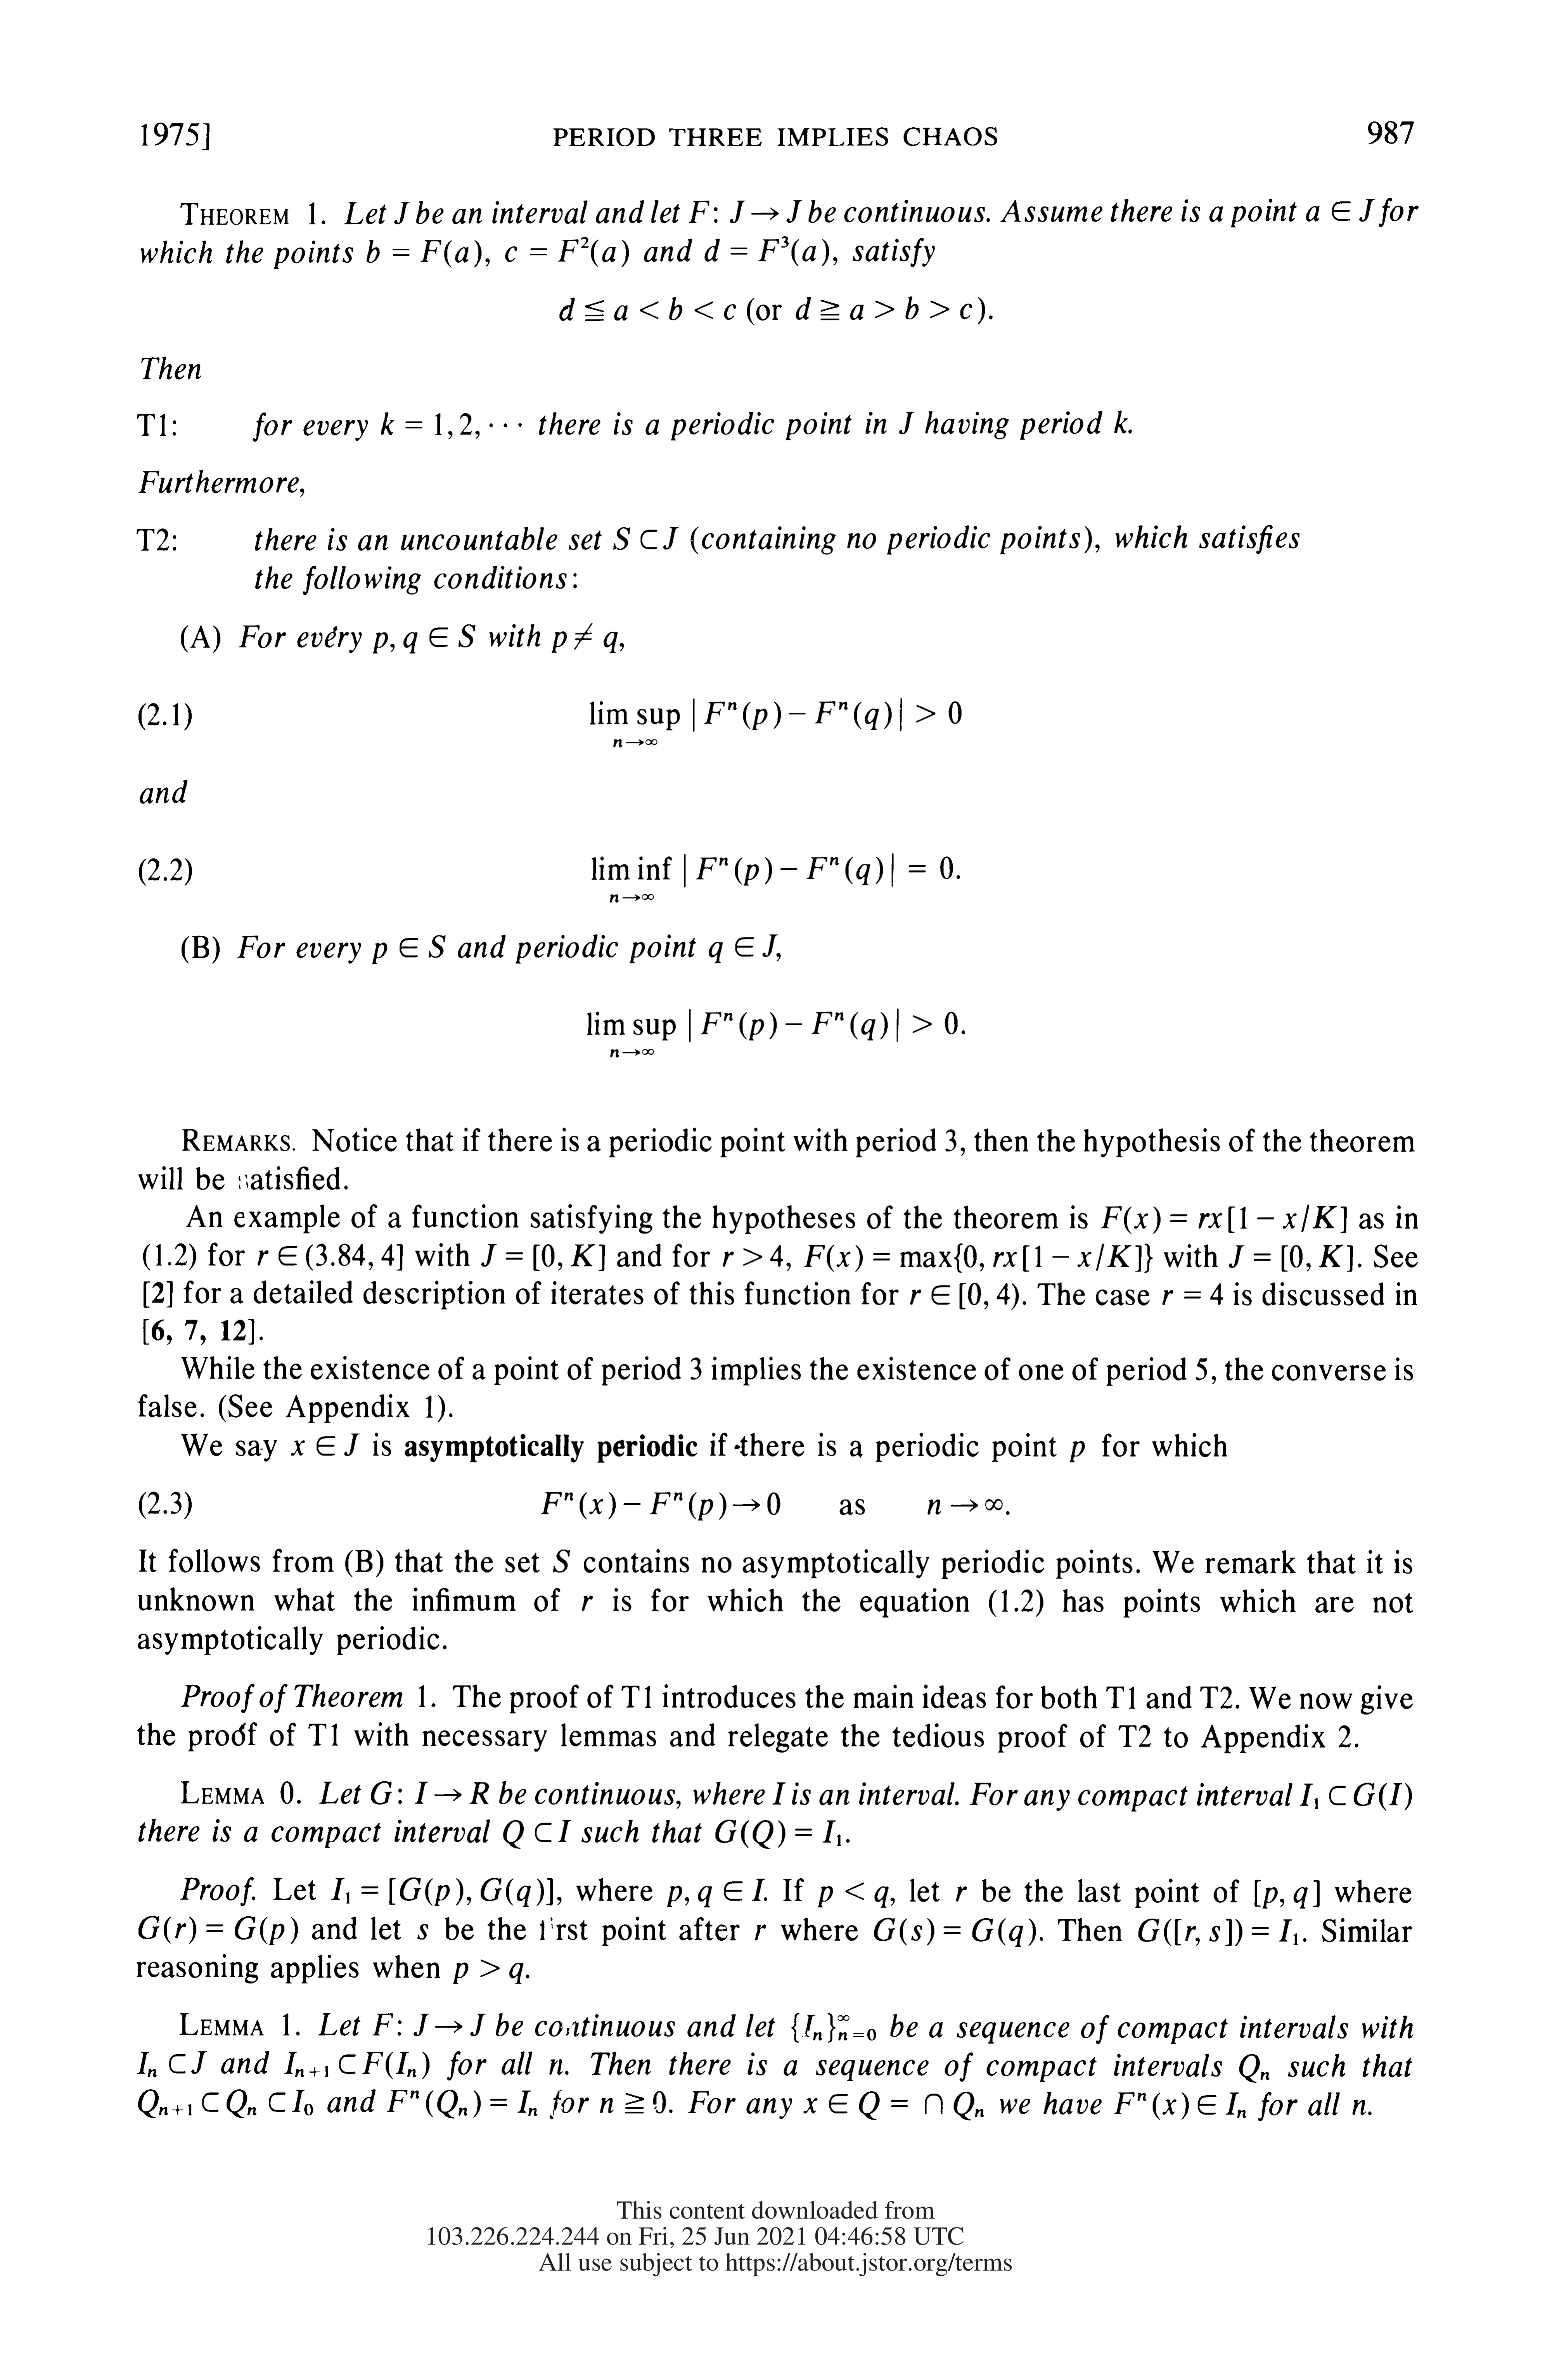maths: (590, 697, 961, 748), (586, 1008, 964, 1056), (591, 853, 959, 902), (805, 1244, 1153, 1273), (1101, 1204, 1346, 1233), (541, 1492, 780, 1520), (331, 1877, 553, 1906), (139, 2089, 312, 2118), (139, 1915, 298, 1945), (874, 1919, 1035, 1946), (1139, 1919, 1297, 1946), (560, 297, 735, 321), (387, 2090, 538, 2118), (714, 1820, 850, 1849), (796, 297, 971, 319), (284, 2052, 428, 2078), (1113, 2092, 1247, 2120), (704, 236, 829, 265), (505, 238, 628, 267), (258, 1244, 394, 1270), (480, 1244, 605, 1272), (1229, 1246, 1353, 1272), (366, 239, 480, 267), (1301, 1783, 1412, 1811), (803, 2092, 907, 2120), (371, 1782, 489, 1804), (688, 199, 801, 222), (373, 2014, 486, 2037), (791, 2012, 876, 2042), (551, 623, 623, 652), (373, 935, 446, 963), (503, 1820, 571, 1849), (404, 624, 475, 652), (709, 935, 780, 963), (697, 1879, 766, 1906), (453, 1960, 529, 1984), (910, 1284, 981, 1310), (1254, 1880, 1320, 1908), (818, 1882, 888, 1908), (723, 1246, 791, 1272), (137, 2052, 206, 2076), (926, 2092, 983, 2120), (291, 1433, 359, 1455), (600, 2090, 666, 2113), (614, 527, 678, 550), (1306, 199, 1375, 220), (381, 413, 440, 435), (928, 1499, 1009, 1514), (1162, 1284, 1223, 1304), (1240, 2054, 1269, 2082), (447, 413, 479, 439), (373, 631, 394, 652), (668, 1886, 688, 1906), (1115, 411, 1132, 434), (394, 201, 409, 224), (553, 1549, 569, 1572), (900, 411, 914, 434), (1070, 1442, 1084, 1462), (1353, 2101, 1372, 2115), (550, 2059, 562, 2075), (955, 1886, 966, 1901), (418, 1924, 428, 1939), (754, 1924, 765, 1939), (583, 1596, 593, 1610), (489, 423, 522, 427), (734, 1445, 740, 1448)
